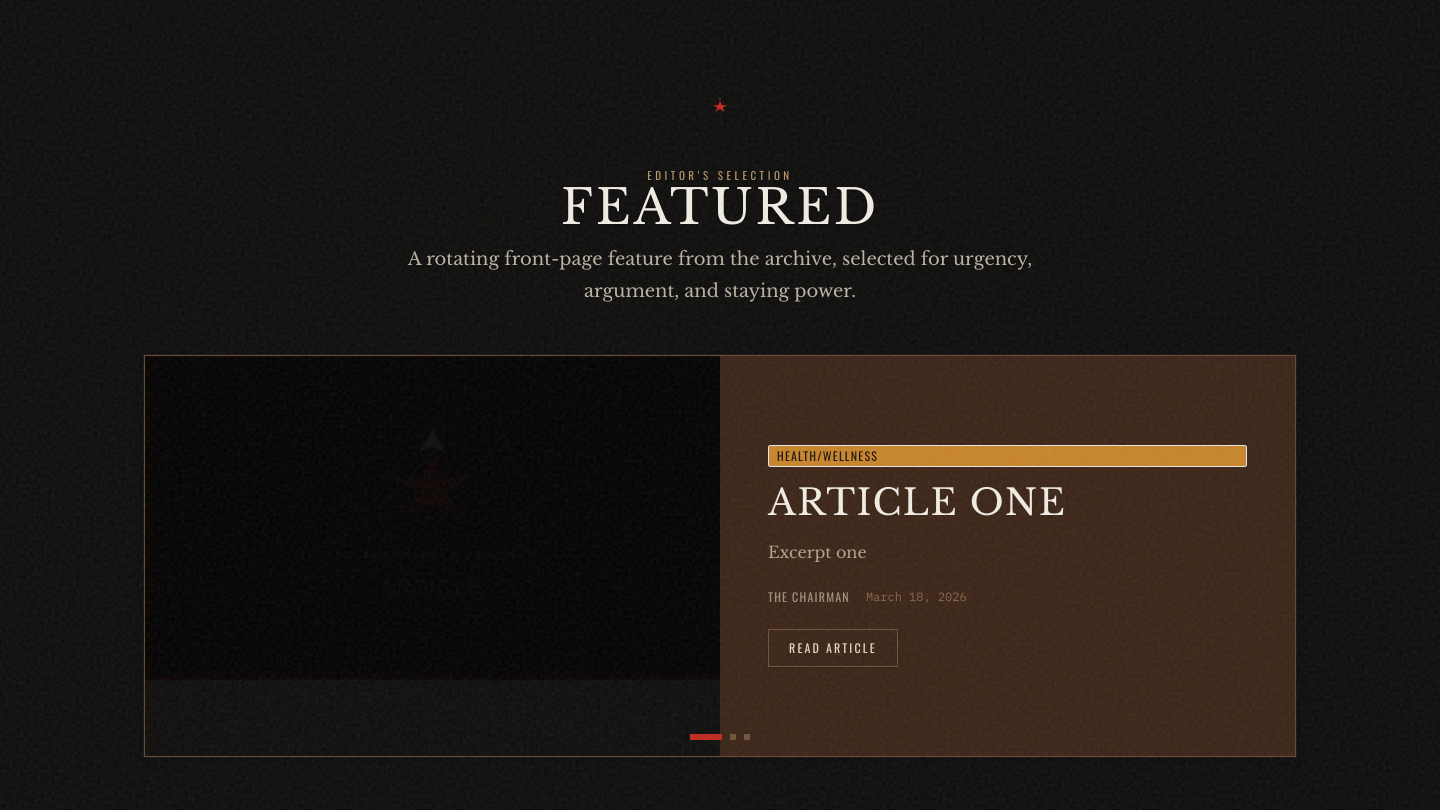
Test: FeaturedCarousel › allows manual navigation via dot indicators
Click the tab named "Article 3". click: (747, 737)
box: top-left (744, 734), bottom-right (750, 740)
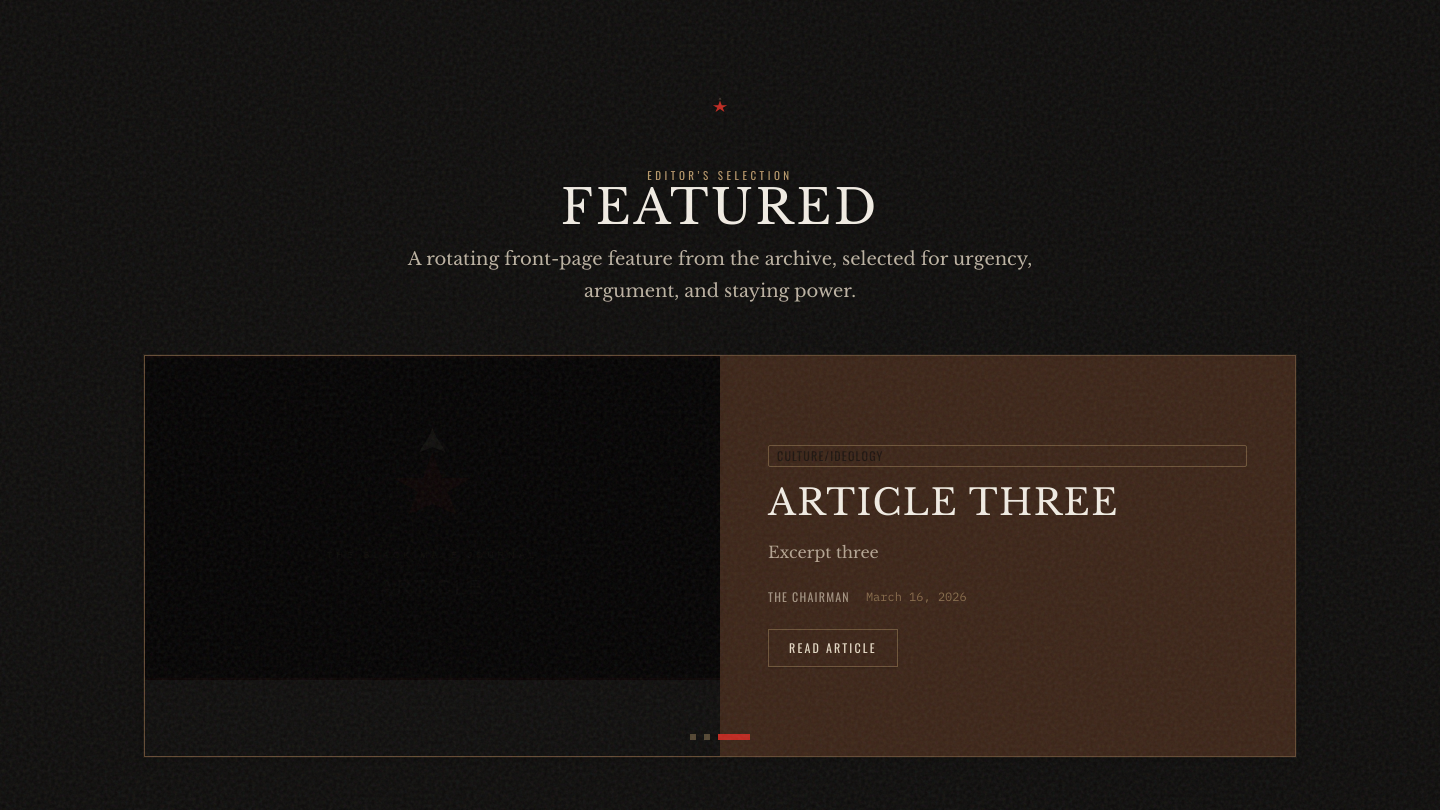
Expected: the heading "Article Three" is shown, top-left (768, 480), bottom-right (1119, 525)
